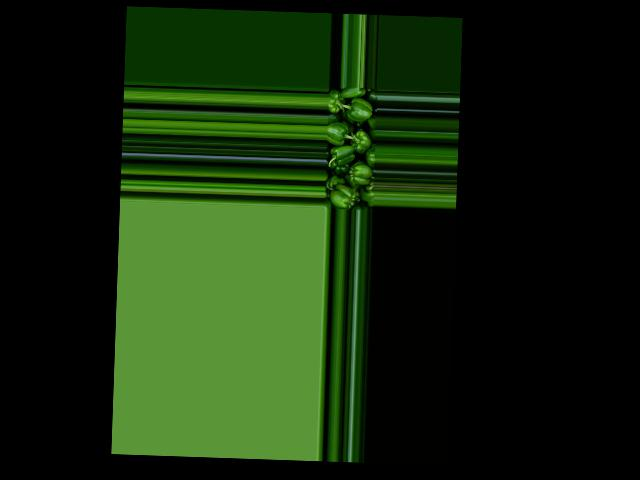bell_pepper: (325, 87, 377, 210)
